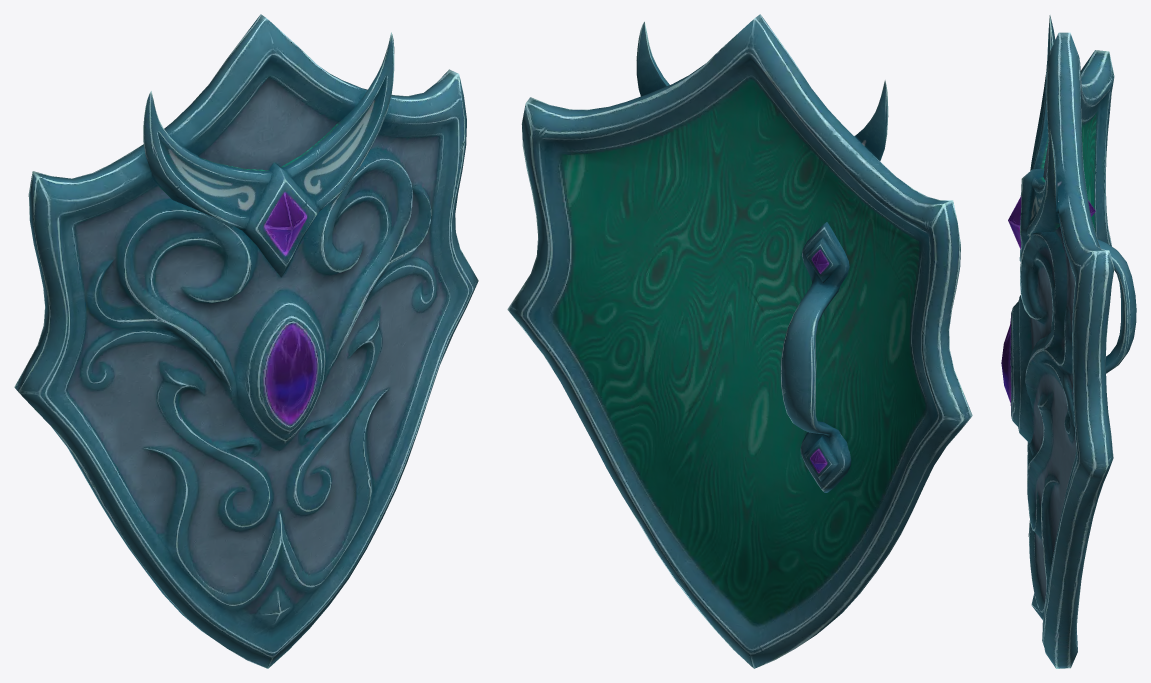
The picture shows the model from 3 angles, left to right: view 1: azimuth 30°, elevation 25°; view 2: azimuth 150°, elevation 25°; view 3: azimuth 270°, elevation 25°; orthographic projection. The views are drawn at different scales.
Visible parts, largest first — view 1: SM_Kite_Rune_1H_01_LOD0; view 2: SM_Kite_Rune_1H_01_LOD0; view 3: SM_Kite_Rune_1H_01_LOD0.
Boxes of the visible parts, x1=… form: SM_Kite_Rune_1H_01_LOD0: x1=14, y1=14, x2=478, y2=668; SM_Kite_Rune_1H_01_LOD0: x1=507, y1=14, x2=972, y2=668; SM_Kite_Rune_1H_01_LOD0: x1=1001, y1=15, x2=1136, y2=668.
Bounding box in the file's own units: 0.7795 × 1.05 × 0.2027.
1 material, 1 textured.
